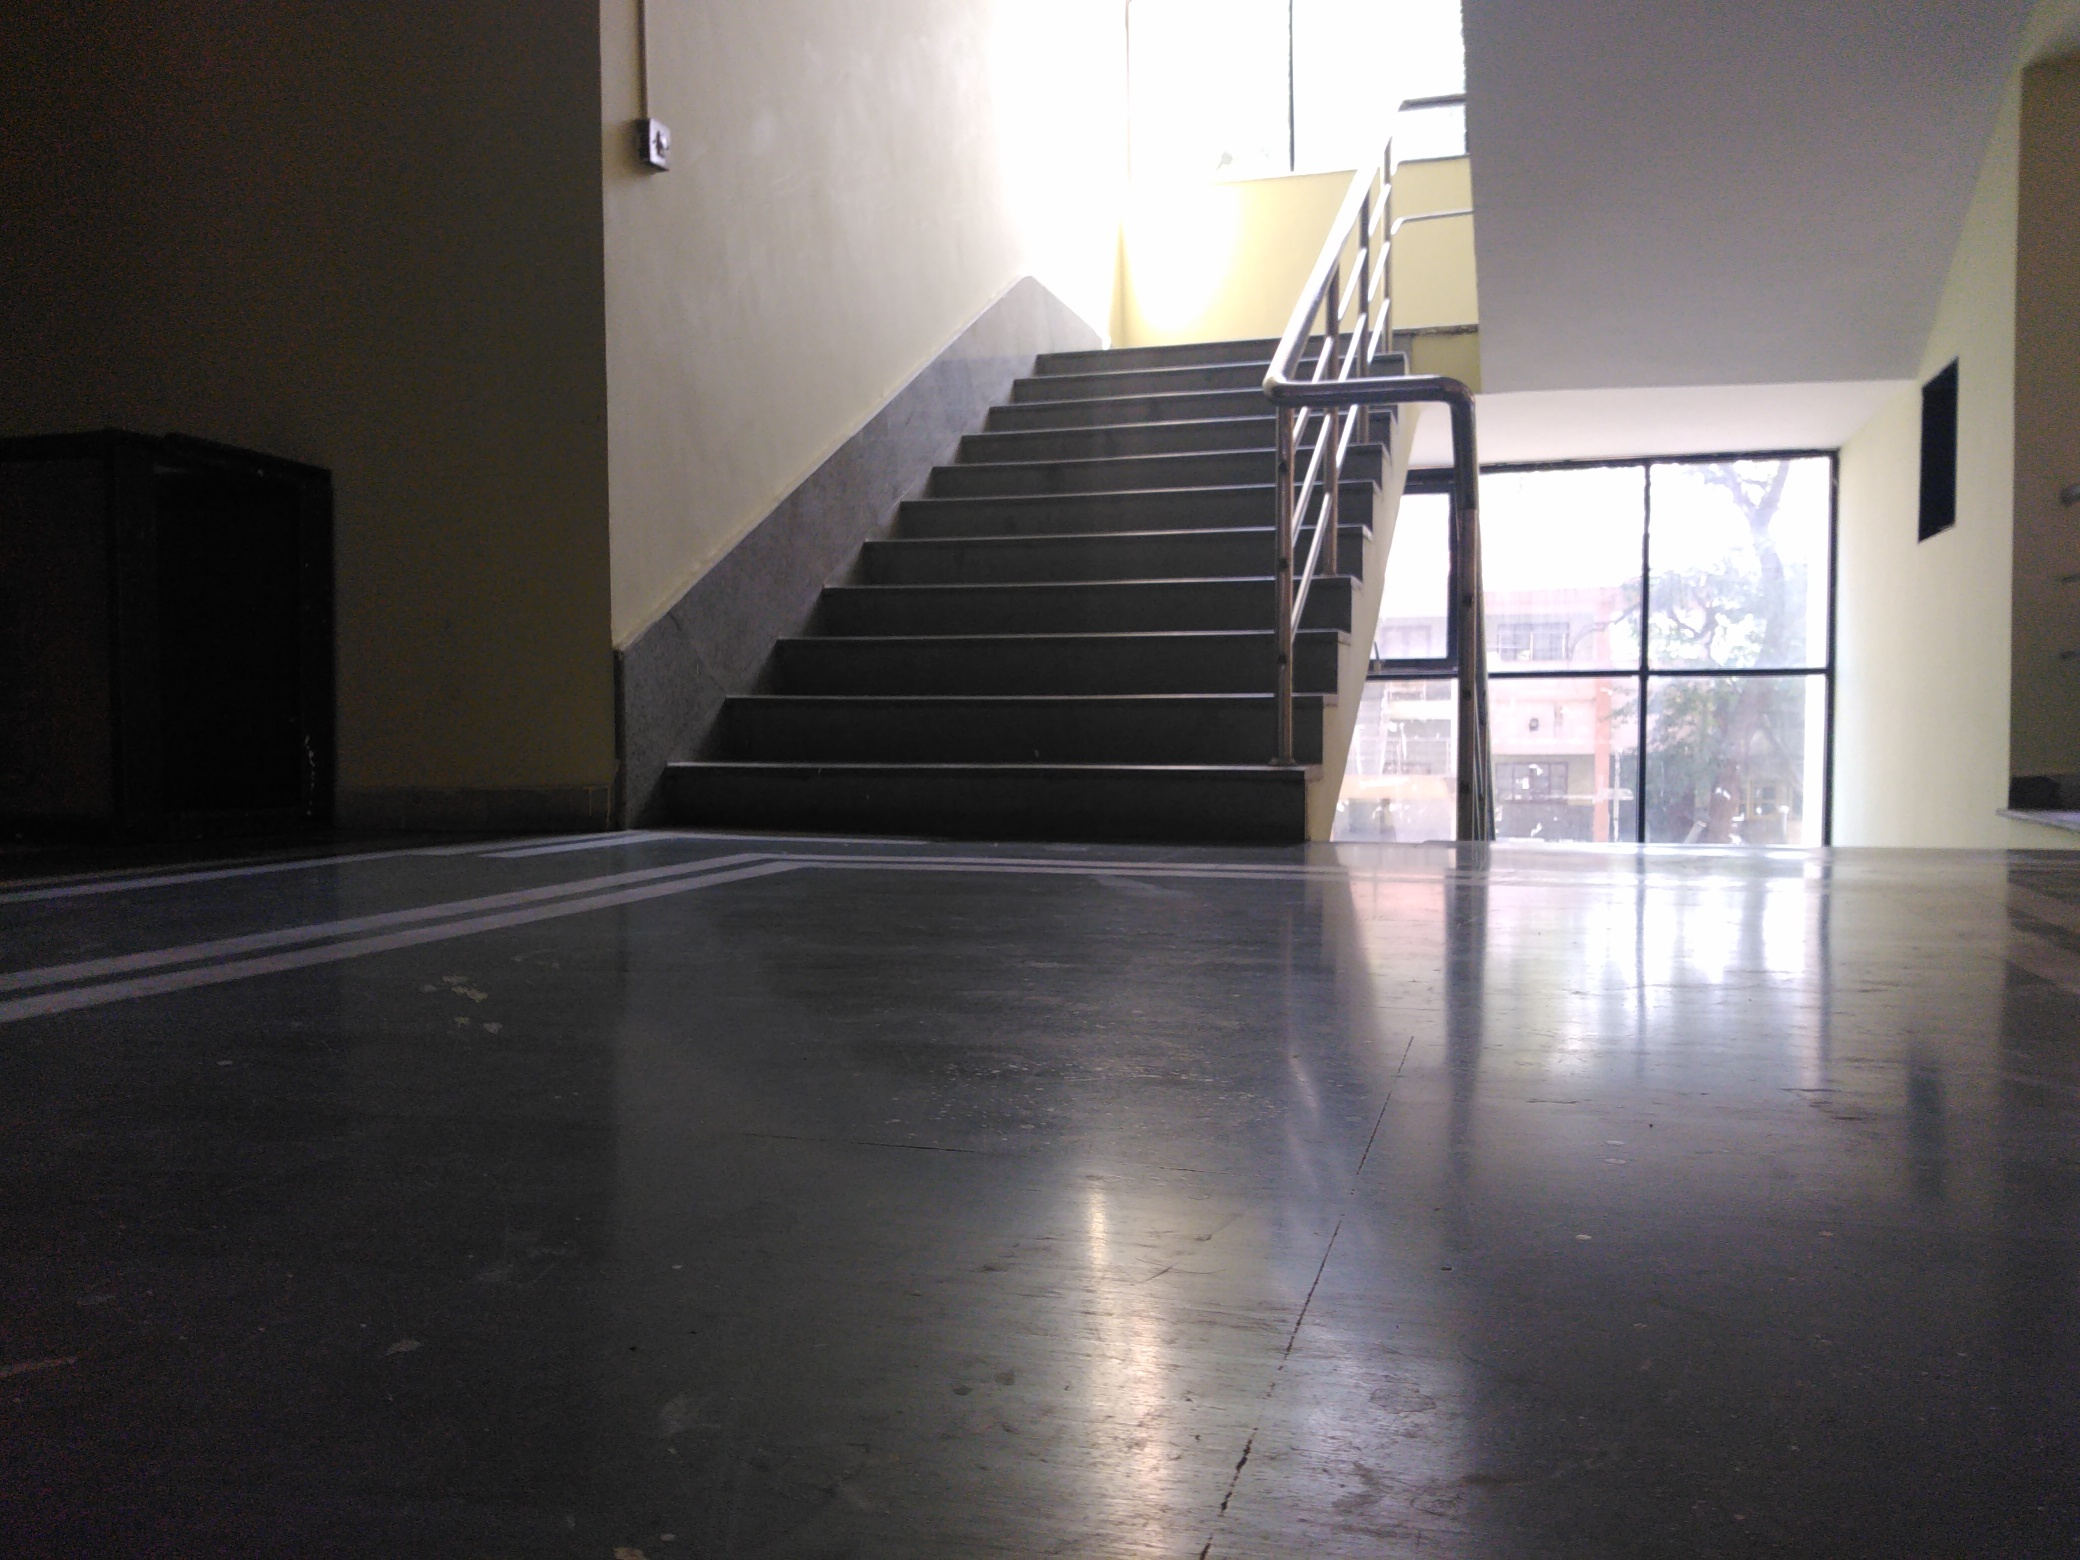stairs_up: (624, 316, 1422, 860)
